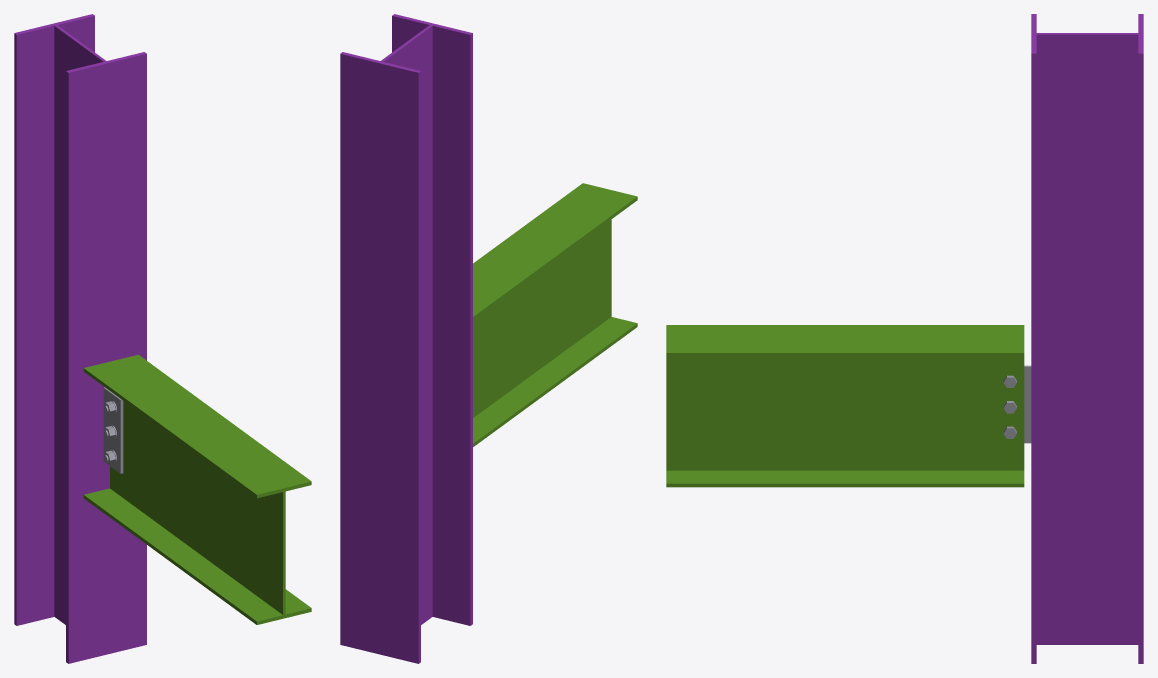
Rendered from Shear Tab GLB.glb.
3 views of the same model, side by side, from view 1: azimuth 30°, elevation 25°; view 2: azimuth 150°, elevation 25°; view 3: azimuth 270°, elevation 25° (orthographic). The views are drawn at different scales.
Visible parts, largest first — view 1: FamilyInstance Columns PLATE <1240656 PLATE<, FamilyInstance Structural Framing BEAM <1240492 BEAM<; view 2: FamilyInstance Columns PLATE <1240656 PLATE<, FamilyInstance Structural Framing BEAM <1240492 BEAM<; view 3: FamilyInstance Columns PLATE <1240656 PLATE<, FamilyInstance Structural Framing BEAM <1240492 BEAM<.
Boxes of the visible parts, x1,y1,x2,y2 form: FamilyInstance Columns PLATE <1240656 PLATE<: [14, 14, 146, 663]; FamilyInstance Structural Framing BEAM <1240492 BEAM<: [83, 354, 311, 624]; FamilyInstance Columns PLATE <1240656 PLATE<: [340, 14, 472, 663]; FamilyInstance Structural Framing BEAM <1240492 BEAM<: [473, 183, 637, 446]; FamilyInstance Columns PLATE <1240656 PLATE<: [1024, 14, 1143, 663]; FamilyInstance Structural Framing BEAM <1240492 BEAM<: [666, 325, 1024, 487].
Bounding box in the file's own units: 10 × 72 × 51.
